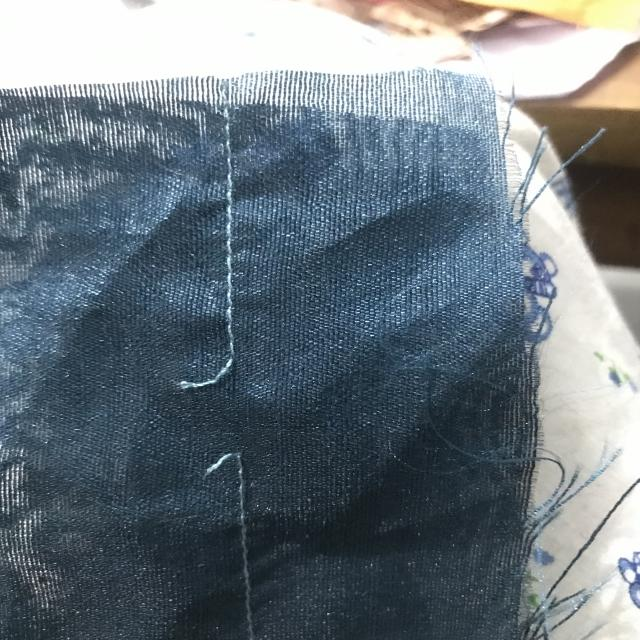broken: (168, 325, 286, 503)
good: (210, 213, 251, 295)
